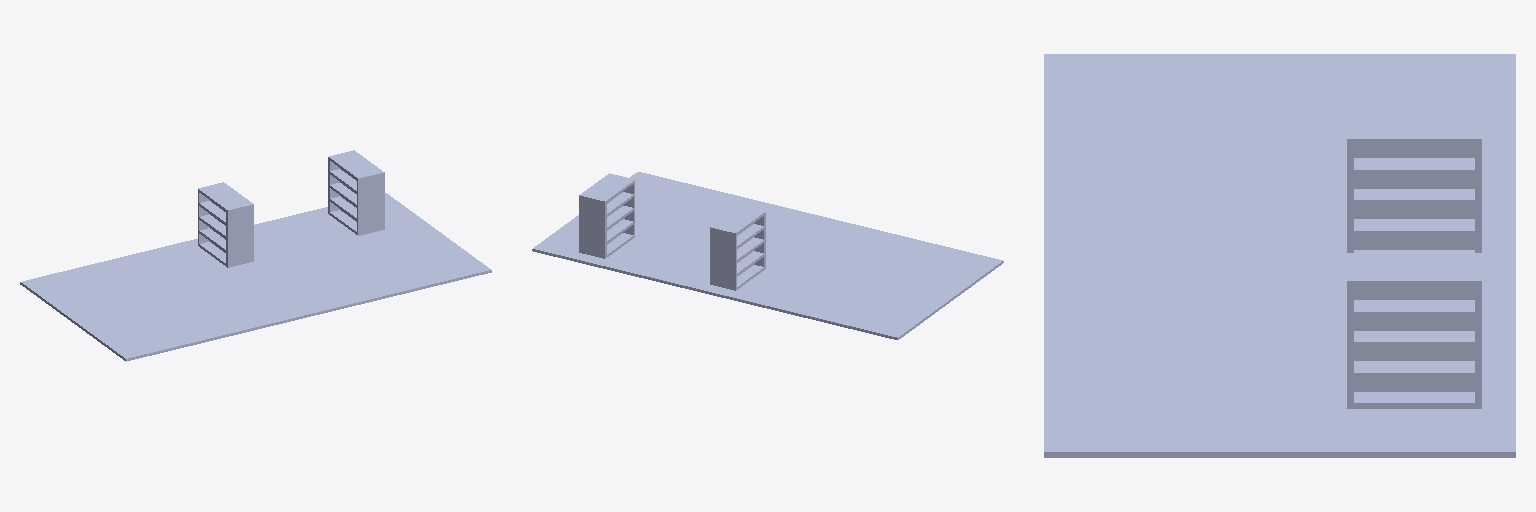
The robot description file, URDF, robot "library_world_assm":
<?xml version="1.0" encoding="utf-8"?>
<!-- This URDF was automatically created by SolidWorks to URDF Exporter! Originally created by [author] ([email redacted]) 
     Commit Version: 1.6.0-4-g7f85cfe  Build Version: 1.6.7995.38578
     For more information, please see http://wiki.ros.org/sw_urdf_exporter -->
<robot
  name="library_world_assm">
  <link
    name="base_link">
    <inertial>
      <origin
        xyz="3.39864191211783E-16 0.05 -9.9731258776702E-16"
        rpy="0 0 0" />
      <mass
        value="9800" />
      <inertia
        ixx="40024.8333333333"
        ixy="-9.53311503811468E-14"
        ixz="6.6317322004276E-12"
        iyy="200083.333333333"
        iyz="-6.93072748694454E-31"
        izz="160074.833333333" />
    </inertial>
    <visual>
      <origin
        xyz="0 0 0"
        rpy="0 0 0" />
      <geometry>
        <mesh
          filename="package://library_world_assm/meshes/base_link.STL" />
      </geometry>
      <material
        name="">
        <color
          rgba="0.792156862745098 0.819607843137255 0.933333333333333 1" />
      </material>
    </visual>
    <collision>
      <origin
        xyz="0 0 0"
        rpy="0 0 0" />
      <geometry>
        <mesh
          filename="package://library_world_assm/meshes/base_link.STL" />
      </geometry>
    </collision>
  </link>
  <link
    name="1l">
    <inertial>
      <origin
        xyz="-2.44249065417534E-15 1.05 -1.33226762955019E-15"
        rpy="0 0 0" />
      <mass
        value="1896" />
      <inertia
        ixx="904.700000000001"
        ixy="-4.93901900859111E-13"
        ixz="-1.24772403285476E-13"
        iyy="889.840000000001"
        iyz="2.74086309204335E-13"
        izz="1570.7" />
    </inertial>
    <visual>
      <origin
        xyz="0 0 0"
        rpy="0 0 0" />
      <geometry>
        <mesh
          filename="package://library_world_assm/meshes/1l.STL" />
      </geometry>
      <material
        name="">
        <color
          rgba="0.792156862745098 0.819607843137255 0.933333333333333 1" />
      </material>
    </visual>
    <collision>
      <origin
        xyz="0 0 0"
        rpy="0 0 0" />
      <geometry>
        <mesh
          filename="package://library_world_assm/meshes/1l.STL" />
      </geometry>
    </collision>
  </link>
  <joint
    name="1j"
    type="fixed">
    <origin
      xyz="-2.5 2 2.2"
      rpy="-1.5708 0 1.5708" />
    <parent
      link="base_link" />
    <child
      link="1l" />
    <axis
      xyz="0 0 0" />
  </joint>
  <link
    name="2l">
    <inertial>
      <origin
        xyz="-2.22044604925031E-15 1.05 -1.33226762955019E-15"
        rpy="0 0 0" />
      <mass
        value="1896" />
      <inertia
        ixx="904.700000000002"
        ixy="-5.56900181611036E-13"
        ixz="-1.84660696864623E-13"
        iyy="889.840000000002"
        iyz="2.8124204354274E-13"
        izz="1570.7" />
    </inertial>
    <visual>
      <origin
        xyz="0 0 0"
        rpy="0 0 0" />
      <geometry>
        <mesh
          filename="package://library_world_assm/meshes/2l.STL" />
      </geometry>
      <material
        name="">
        <color
          rgba="0.792156862745098 0.819607843137255 0.933333333333333 1" />
      </material>
    </visual>
    <collision>
      <origin
        xyz="0 0 0"
        rpy="0 0 0" />
      <geometry>
        <mesh
          filename="package://library_world_assm/meshes/2l.STL" />
      </geometry>
    </collision>
  </link>
  <joint
    name="2j"
    type="fixed">
    <origin
      xyz="-2.5 -2 2.2"
      rpy="-1.5708 0 1.5708" />
    <parent
      link="base_link" />
    <child
      link="2l" />
    <axis
      xyz="0 0 0" />
  </joint>
  <link
    name="3l">
    <inertial>
      <origin
        xyz="-2.44249065417534E-15 1.05 -1.02401199123933E-15"
        rpy="0 0 0" />
      <mass
        value="1896" />
      <inertia
        ixx="904.700000000001"
        ixy="-5.26945149047086E-13"
        ixz="-1.59727103945386E-13"
        iyy="889.840000000001"
        iyz="1.71842643196735E-13"
        izz="1570.7" />
    </inertial>
    <visual>
      <origin
        xyz="0 0 0"
        rpy="0 0 0" />
      <geometry>
        <mesh
          filename="package://library_world_assm/meshes/3l.STL" />
      </geometry>
      <material
        name="">
        <color
          rgba="0.792156862745098 0.819607843137255 0.933333333333333 1" />
      </material>
    </visual>
    <collision>
      <origin
        xyz="0 0 0"
        rpy="0 0 0" />
      <geometry>
        <mesh
          filename="package://library_world_assm/meshes/3l.STL" />
      </geometry>
    </collision>
  </link>
  <joint
    name="3j"
    type="fixed">
    <origin
      xyz="0 2 2.2"
      rpy="-1.5708 0 1.5708" />
    <parent
      link="base_link" />
    <child
      link="3l" />
    <axis
      xyz="0 0 0" />
  </joint>
  <link
    name="4l">
    <inertial>
      <origin
        xyz="-2.22044604925031E-15 1.05 -1.44637141071257E-15"
        rpy="0 0 0" />
      <mass
        value="1896" />
      <inertia
        ixx="904.700000000002"
        ixy="-5.76733959309103E-13"
        ixz="-2.49633589776144E-13"
        iyy="889.840000000002"
        iyz="1.90707760997983E-13"
        izz="1570.7" />
    </inertial>
    <visual>
      <origin
        xyz="0 0 0"
        rpy="0 0 0" />
      <geometry>
        <mesh
          filename="package://library_world_assm/meshes/4l.STL" />
      </geometry>
      <material
        name="">
        <color
          rgba="0.792156862745098 0.819607843137255 0.933333333333333 1" />
      </material>
    </visual>
    <collision>
      <origin
        xyz="0 0 0"
        rpy="0 0 0" />
      <geometry>
        <mesh
          filename="package://library_world_assm/meshes/4l.STL" />
      </geometry>
    </collision>
  </link>
  <joint
    name="4j"
    type="fixed">
    <origin
      xyz="0 -2 2.2"
      rpy="-1.5708 0 1.5708" />
    <parent
      link="base_link" />
    <child
      link="4l" />
    <axis
      xyz="0 0 0" />
  </joint>
  <link
    name="5l">
    <inertial>
      <origin
        xyz="-2.44249065417534E-15 1.05 -8.88178419700125E-16"
        rpy="0 0 0" />
      <mass
        value="1896" />
      <inertia
        ixx="904.700000000001"
        ixy="-5.01335084557298E-13"
        ixz="-1.24032728532341E-13"
        iyy="889.840000000001"
        iyz="2.75821032680312E-13"
        izz="1570.7" />
    </inertial>
    <visual>
      <origin
        xyz="0 0 0"
        rpy="0 0 0" />
      <geometry>
        <mesh
          filename="package://library_world_assm/meshes/5l.STL" />
      </geometry>
      <material
        name="">
        <color
          rgba="0.792156862745098 0.819607843137255 0.933333333333333 1" />
      </material>
    </visual>
    <collision>
      <origin
        xyz="0 0 0"
        rpy="0 0 0" />
      <geometry>
        <mesh
          filename="package://library_world_assm/meshes/5l.STL" />
      </geometry>
    </collision>
  </link>
  <joint
    name="5j"
    type="fixed">
    <origin
      xyz="2.5 2 2.2"
      rpy="-1.5708 0 1.5708" />
    <parent
      link="base_link" />
    <child
      link="5l" />
    <axis
      xyz="0 0 0" />
  </joint>
  <link
    name="6l">
    <inertial>
      <origin
        xyz="-2.22044604925031E-15 1.05 -1.33226762955019E-15"
        rpy="0 0 0" />
      <mass
        value="1896" />
      <inertia
        ixx="904.700000000001"
        ixy="-5.6046155849423E-13"
        ixz="-1.85622555554281E-13"
        iyy="889.840000000002"
        iyz="2.77772596590786E-13"
        izz="1570.7" />
    </inertial>
    <visual>
      <origin
        xyz="0 0 0"
        rpy="0 0 0" />
      <geometry>
        <mesh
          filename="package://library_world_assm/meshes/6l.STL" />
      </geometry>
      <material
        name="">
        <color
          rgba="0.792156862745098 0.819607843137255 0.933333333333333 1" />
      </material>
    </visual>
    <collision>
      <origin
        xyz="0 0 0"
        rpy="0 0 0" />
      <geometry>
        <mesh
          filename="package://library_world_assm/meshes/6l.STL" />
      </geometry>
    </collision>
  </link>
  <joint
    name="6j"
    type="fixed">
    <origin
      xyz="2.5 -2 2.2"
      rpy="-1.5708 0 1.5708" />
    <parent
      link="base_link" />
    <child
      link="6l" />
    <axis
      xyz="0 0 0" />
  </joint>
  <link
    name="7l">
    <inertial>
      <origin
        xyz="-2.44249065417534E-15 1.05 -8.88178419700125E-16"
        rpy="0 0 0" />
      <mass
        value="1896" />
      <inertia
        ixx="904.700000000001"
        ixy="-5.03565504110053E-13"
        ixz="-1.24639006502141E-13"
        iyy="889.84"
        iyz="2.66496893996937E-13"
        izz="1570.7" />
    </inertial>
    <visual>
      <origin
        xyz="0 0 0"
        rpy="0 0 0" />
      <geometry>
        <mesh
          filename="package://library_world_assm/meshes/7l.STL" />
      </geometry>
      <material
        name="">
        <color
          rgba="0.792156862745098 0.819607843137255 0.933333333333333 1" />
      </material>
    </visual>
    <collision>
      <origin
        xyz="0 0 0"
        rpy="0 0 0" />
      <geometry>
        <mesh
          filename="package://library_world_assm/meshes/7l.STL" />
      </geometry>
    </collision>
  </link>
  <joint
    name="7j"
    type="fixed">
    <origin
      xyz="5 2 2.2"
      rpy="-1.5708 0 1.5708" />
    <parent
      link="base_link" />
    <child
      link="7l" />
    <axis
      xyz="0 0 0" />
  </joint>
  <link
    name="8l">
    <inertial>
      <origin
        xyz="-2.22044604925031E-15 1.05 0"
        rpy="0 0 0" />
      <mass
        value="1896" />
      <inertia
        ixx="904.700000000001"
        ixy="-5.68699980202549E-13"
        ixz="-2.04137178507685E-13"
        iyy="889.840000000002"
        iyz="2.8492833092919E-13"
        izz="1570.7" />
    </inertial>
    <visual>
      <origin
        xyz="0 0 0"
        rpy="0 0 0" />
      <geometry>
        <mesh
          filename="package://library_world_assm/meshes/8l.STL" />
      </geometry>
      <material
        name="">
        <color
          rgba="0.792156862745098 0.819607843137255 0.933333333333333 1" />
      </material>
    </visual>
    <collision>
      <origin
        xyz="0 0 0"
        rpy="0 0 0" />
      <geometry>
        <mesh
          filename="package://library_world_assm/meshes/8l.STL" />
      </geometry>
    </collision>
  </link>
  <joint
    name="8j"
    type="fixed">
    <origin
      xyz="5 -2 2.2"
      rpy="-1.5708 0 1.5708" />
    <parent
      link="base_link" />
    <child
      link="8l" />
    <axis
      xyz="0 0 0" />
  </joint>
</robot>

--- Facts derived from the render (not from the file) ---
3 views of the same robot in one strip: view 1: azimuth 30°, elevation 25°; view 2: azimuth 150°, elevation 25°; view 3: azimuth 270°, elevation 25° (orthographic).
Model library_world_assm with 9 links and 8 joints (8 fixed), rooted at base_link, posed every joint at zero.
Visible links, largest first — view 1: base_link, 7l, 3l; view 2: base_link, 3l, 7l; view 3: base_link, 7l, 3l.
Boxes of the visible links, <box> form: base_link: <box>20,193,491,361</box>; 7l: <box>328,150,384,235</box>; 3l: <box>198,182,253,267</box>; base_link: <box>532,172,1003,339</box>; 3l: <box>710,205,765,290</box>; 7l: <box>579,173,634,258</box>; base_link: <box>1044,54,1515,457</box>; 7l: <box>1347,253,1481,408</box>; 3l: <box>1347,111,1481,252</box>.
Size in the robot's own frame: 14 by 7 by 2.2 metres.
Meshes: 9 distinct files referenced, 3 mesh visuals loaded (3 binary STL); not drawn: 6 (reference not matched to a file when rendering).